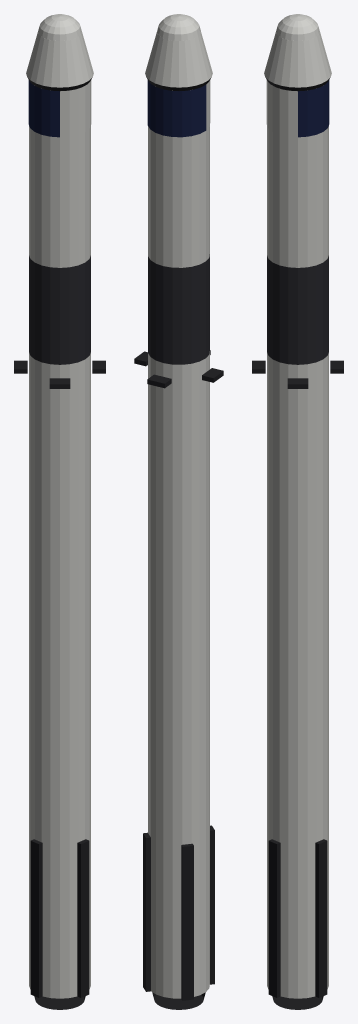
Rendered from rocket-falcon9-dragon.glb.
The picture shows the model from 3 angles, left to right: view 1: azimuth 90°, elevation 25°; view 2: azimuth 150°, elevation 25°; view 3: azimuth 270°, elevation 25°; orthographic projection.
Bounding box in the file's own units: 5.4 × 63.9 × 5.4.
